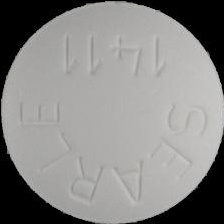54868-4164: (0, 0, 224, 224)
